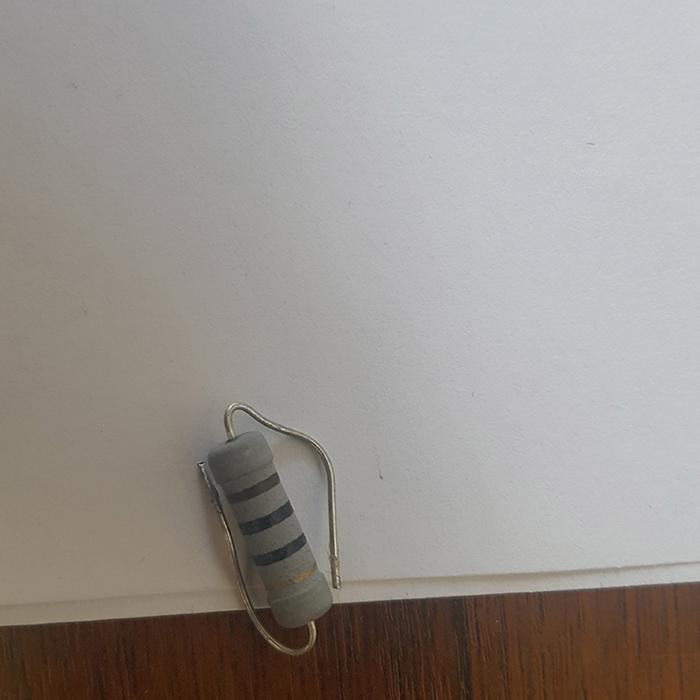resistor: (204, 430, 333, 630)
